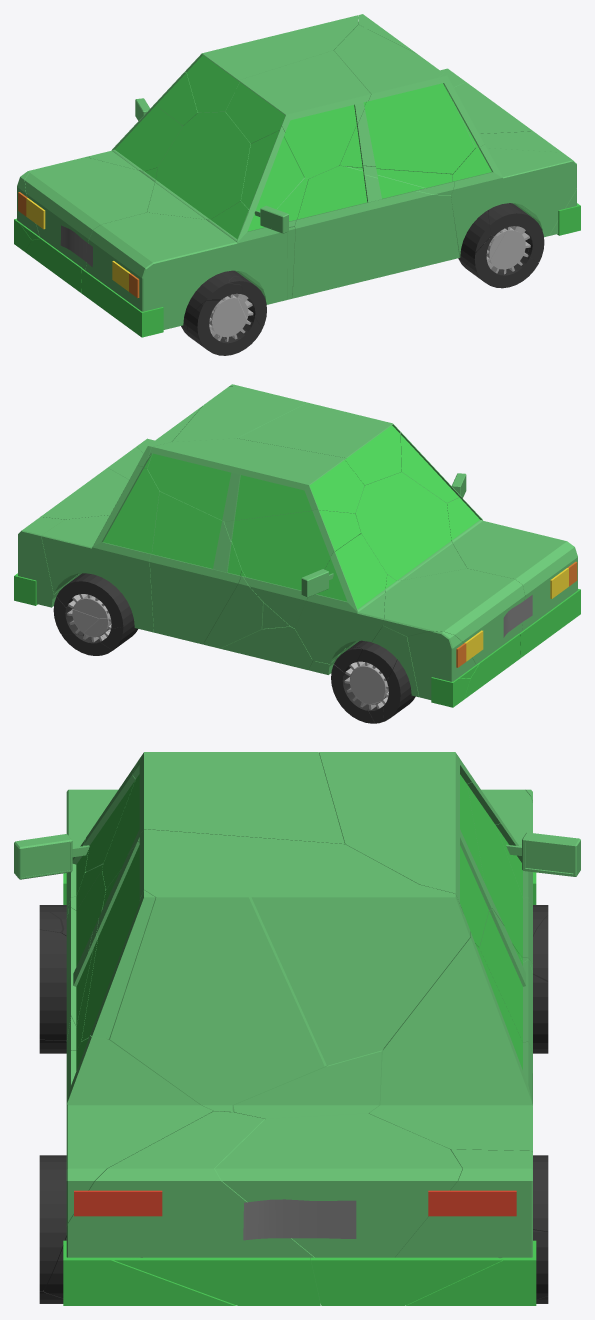
The model's file is Car One Green Shatter.fbx.
3 views of the same model, one above another, from view 1: azimuth 30°, elevation 25°; view 2: azimuth 150°, elevation 25°; view 3: azimuth 270°, elevation 25° (orthographic). The views are drawn at different scales.
Visible parts, largest first — view 1: Car Body.003_cell.001, Car Body.003_cell.013, Car Body.003_cell, Car Body.003_cell.030, Car Body.003_cell.017, Car Body.003_cell.035, Car Body.003_cell.021, Car Body.003_cell.034, Car Body.003_cell.028, Car Body.003_cell.012, Bumper.004_cell.003, Tire.014_cell.001 (+20 smaller); view 2: Car Body.003_cell.034, Car Body.003_cell.033, Car Body.003_cell.007, Car Body.003_cell.019, Car Body.003_cell.021, Car Body.003_cell.017, Car Body.003_cell.013, Car Body.003_cell.012, Car Body.003_cell.030, Car Body.003_cell, Car Body.003_cell.031, Car Body.003_cell.020 (+24 smaller); view 3: Car Body.003_cell, Car Body.003_cell.023, Car Body.003_cell.007, Car Body.003_cell.018, Car Body.003_cell.034, Car Body.003_cell.030, Car Body.003_cell.025, Car Body.003_cell.035, Car Body.003_cell.008, Back Bumper.003_cell, Back Bumper.003_cell.003, Car Body.003_cell.011 (+22 smaller).
Boxes of the visible parts, x1,y1,x2,y2 form: Car Body.003_cell.001: (292,165,459,298); Car Body.003_cell.013: (85,201,287,329); Car Body.003_cell: (334,24,475,174); Car Body.003_cell.030: (225,50,370,178); Car Body.003_cell.017: (147,112,308,276); Car Body.003_cell.035: (451,144,576,257); Car Body.003_cell.021: (25,157,157,270); Car Body.003_cell.034: (185,15,358,112); Car Body.003_cell.028: (241,126,304,212); Car Body.003_cell.012: (86,103,182,171); Bumper.004_cell.003: (81,268,163,337); Tire.014_cell.001: (187,300,262,355); Car Body.003_cell.034: (147,438,364,521); Car Body.003_cell.033: (149,491,241,644); Car Body.003_cell.007: (41,465,159,632); Car Body.003_cell.019: (224,509,360,628); Car Body.003_cell.021: (383,568,524,664); Car Body.003_cell.017: (354,472,466,580); Car Body.003_cell.013: (445,497,577,631); Car Body.003_cell.012: (295,534,386,663); Car Body.003_cell.030: (237,402,401,485); Car Body.003_cell: (172,386,307,442); Car Body.003_cell.031: (407,631,476,699); Car Body.003_cell.020: (203,571,263,648); Car Body.003_cell: (81,829,418,1112); Car Body.003_cell.023: (251,884,470,1065); Car Body.003_cell.007: (369,932,532,1151); Car Body.003_cell.018: (215,1113,462,1257); Car Body.003_cell.034: (319,752,491,947); Car Body.003_cell.030: (102,752,344,889); Car Body.003_cell.025: (66,1111,319,1299); Car Body.003_cell.035: (66,1035,213,1226); Car Body.003_cell.008: (395,1149,532,1257); Back Bumper.003_cell: (114,1257,320,1305); Back Bumper.003_cell.003: (311,1257,502,1305); Car Body.003_cell.011: (231,1049,383,1118).
Size of the model in its own units: 357 by 154 by 215.
